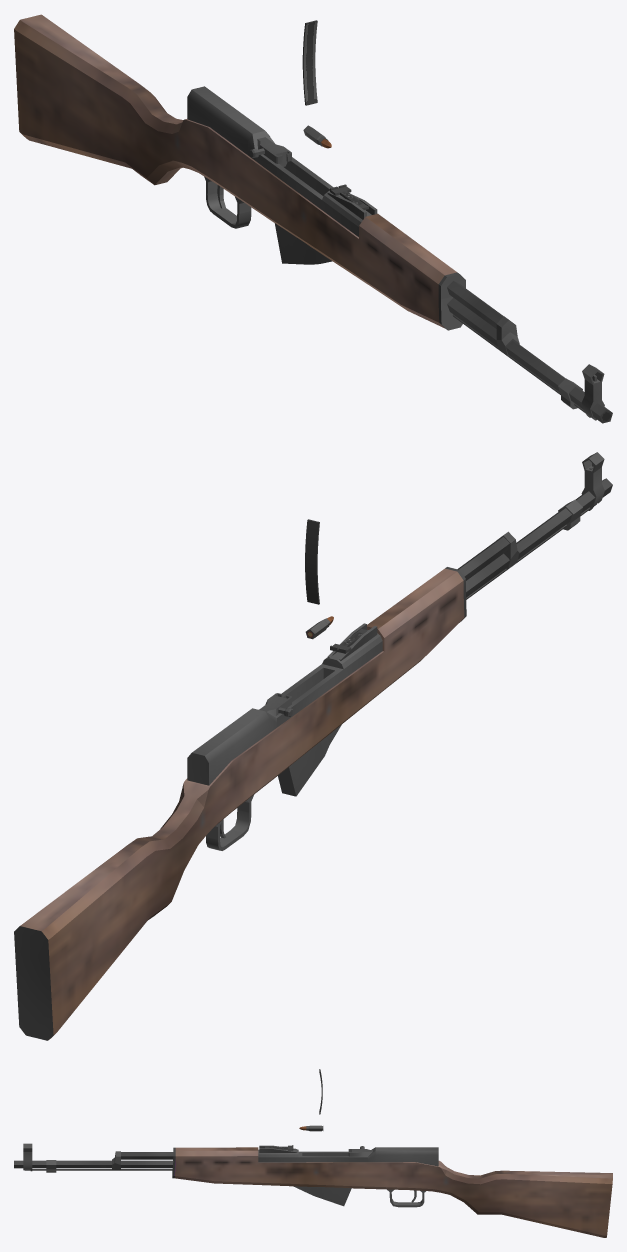
Rendered from SKS.fbx.
3 renders of one model, top to bottom at view 1: azimuth 30°, elevation 25°; view 2: azimuth 150°, elevation 25°; view 3: azimuth 270°, elevation 25°, orthographic. The views are drawn at different scales.
Visible parts, largest first — view 1: Main_Body, Bolt_Housing, Barrell, Magazine, Stripper_Clip, Trigger_Guard, Gas_Rod, Front_Sight, Bolt, Gas_Connector; view 2: Main_Body, Bolt_Housing, Barrell, Magazine, Stripper_Clip, Trigger_Guard, Front_Sight, Gas_Rod; view 3: Main_Body, Bolt_Housing, Barrell, Magazine, Gas_Rod, Cleaning_Rod, Front_Sight, Trigger_Guard.
Boxes of the visible parts, x1,y1,x2,y2 form: Main_Body: [14, 14, 465, 330]; Bolt_Housing: [187, 86, 371, 236]; Barrell: [447, 298, 612, 423]; Magazine: [274, 223, 332, 264]; Stripper_Clip: [302, 20, 317, 105]; Trigger_Guard: [204, 176, 251, 228]; Gas_Rod: [447, 281, 503, 328]; Front_Sight: [581, 364, 604, 420]; Bolt: [250, 137, 291, 166]; Gas_Connector: [496, 316, 519, 356]; Main_Body: [14, 567, 466, 1040]; Bolt_Housing: [187, 630, 382, 785]; Barrell: [466, 478, 612, 597]; Magazine: [278, 724, 341, 796]; Stripper_Clip: [305, 519, 319, 604]; Trigger_Guard: [206, 795, 253, 850]; Front_Sight: [581, 452, 604, 510]; Gas_Rod: [457, 537, 509, 580]; Main_Body: [172, 1147, 612, 1237]; Bolt_Housing: [258, 1147, 438, 1166]; Barrell: [14, 1160, 173, 1168]; Magazine: [293, 1186, 351, 1206]; Gas_Rod: [121, 1152, 173, 1159]; Cleaning_Rod: [24, 1169, 172, 1170]; Front_Sight: [23, 1143, 32, 1171]; Trigger_Guard: [387, 1189, 425, 1207].
Bounding box in the file's own units: 37.22 × 303 × 1001.
